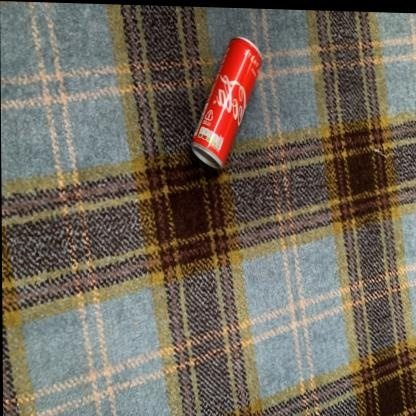trash: (192, 37, 261, 168)
